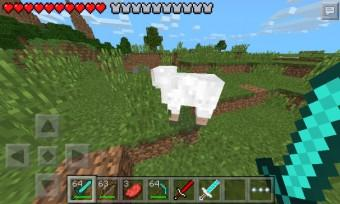sheep: (150, 64, 226, 127)
